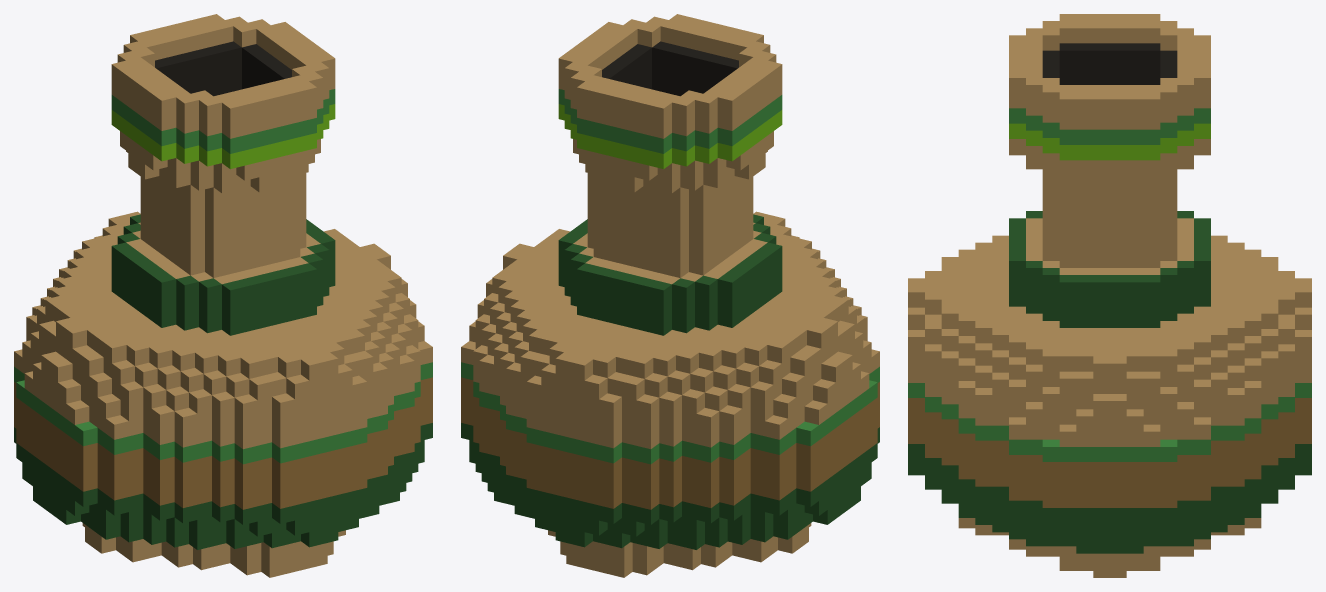
Rendered from Medieval Assets-58-Decoration - Desert - Urn - Variant3.obj.
The picture shows the model from 3 angles, left to right: view 1: azimuth 30°, elevation 25°; view 2: azimuth 150°, elevation 25°; view 3: azimuth 270°, elevation 25°; orthographic projection.
Visible parts, largest first — view 1: Decoration - Desert - Urn - Variant3; view 2: Decoration - Desert - Urn - Variant3; view 3: Decoration - Desert - Urn - Variant3.
Part boxes in pixels (x1,y1,x2,y2): Decoration - Desert - Urn - Variant3: [14, 14, 432, 577]; Decoration - Desert - Urn - Variant3: [461, 14, 879, 577]; Decoration - Desert - Urn - Variant3: [908, 14, 1311, 577].
Size of the model in its own units: 2.4 by 3 by 2.4.
1 material, 1 textured.
